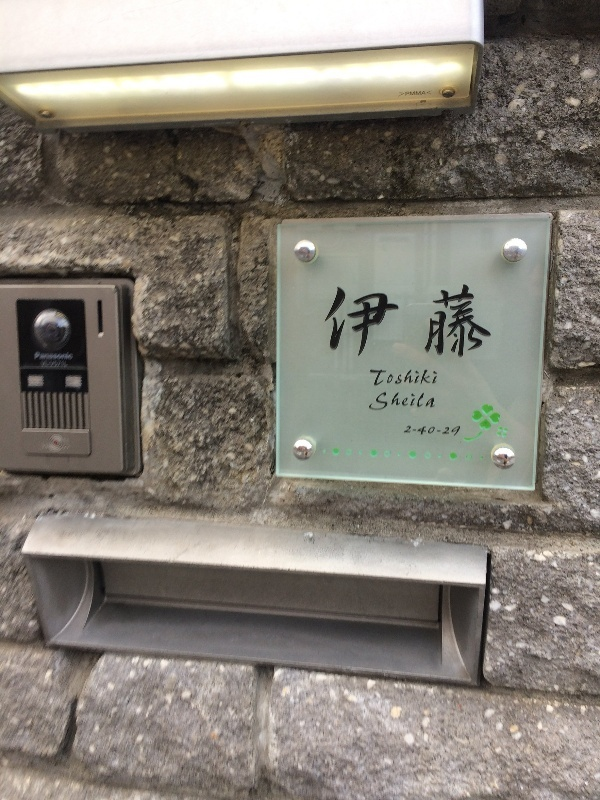text: (337, 283, 352, 361), (353, 283, 368, 361), (369, 283, 384, 361), (385, 283, 400, 361), (401, 283, 416, 361), (417, 283, 432, 361), (433, 283, 448, 361), (449, 283, 464, 361), (465, 283, 480, 361), (481, 283, 492, 361), (326, 283, 336, 361), (385, 391, 400, 412), (401, 391, 416, 412), (417, 391, 432, 412), (385, 368, 400, 387), (401, 368, 416, 387), (417, 368, 432, 387), (370, 368, 384, 387), (372, 391, 384, 412), (417, 424, 432, 437), (433, 424, 448, 437), (449, 424, 462, 437), (406, 424, 416, 437), (433, 368, 439, 387), (433, 391, 436, 412)
